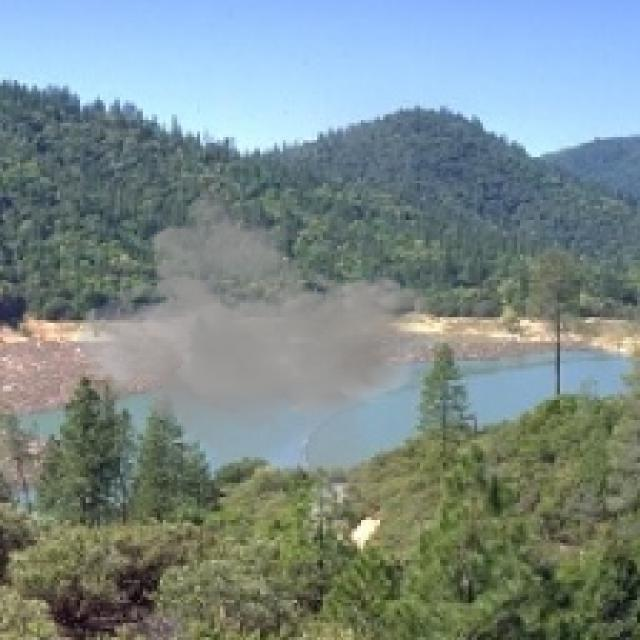smoke: (77, 183, 432, 526)
